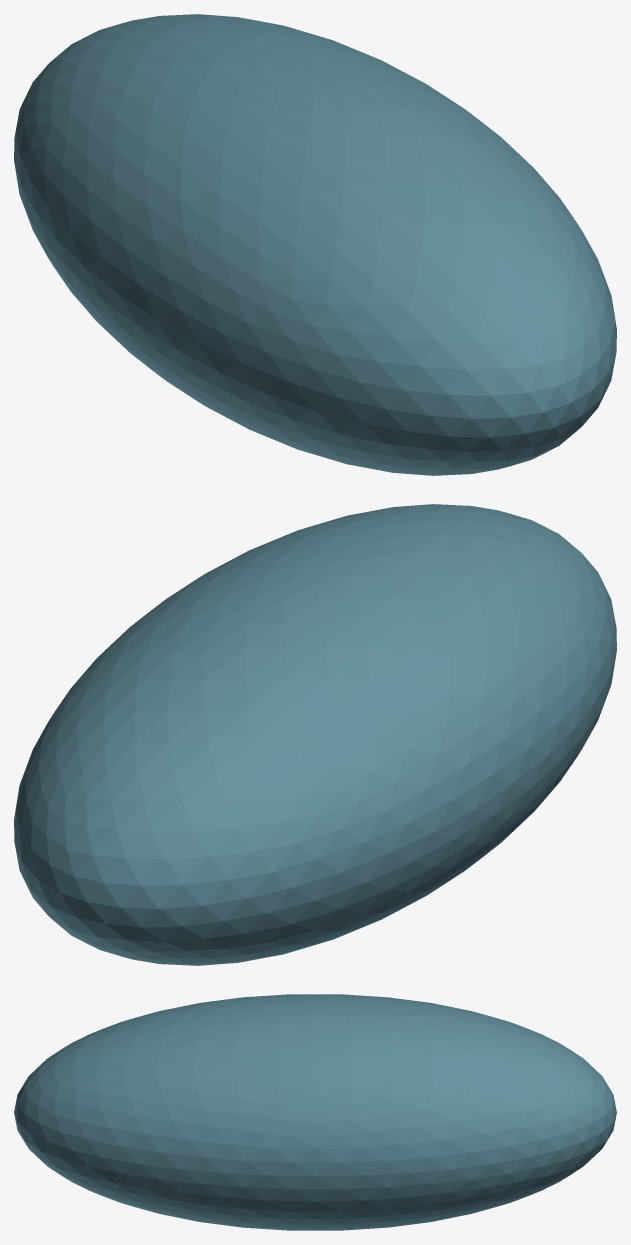
Rendered from Hull.fbx.
The picture shows the model from 3 angles, top to bottom: view 1: azimuth 30°, elevation 25°; view 2: azimuth 150°, elevation 25°; view 3: azimuth 270°, elevation 25°; orthographic projection. The views are drawn at different scales.
Parts seen in each view (by area): view 1: HullMesh; view 2: HullMesh; view 3: HullMesh.
Part boxes in pixels (bbox=[...]): HullMesh: bbox=[14, 14, 616, 475]; HullMesh: bbox=[14, 504, 616, 965]; HullMesh: bbox=[14, 994, 616, 1230].
Bounding box in the file's own units: 3 × 2.2 × 6.
